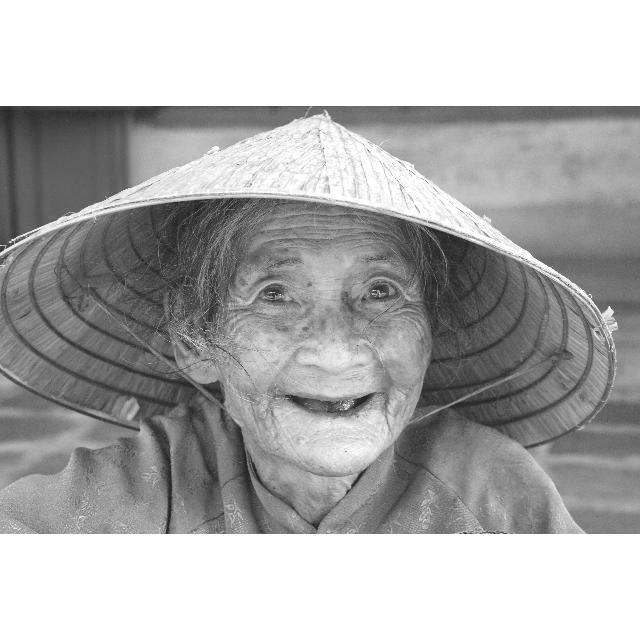real: (222, 219, 431, 471)
